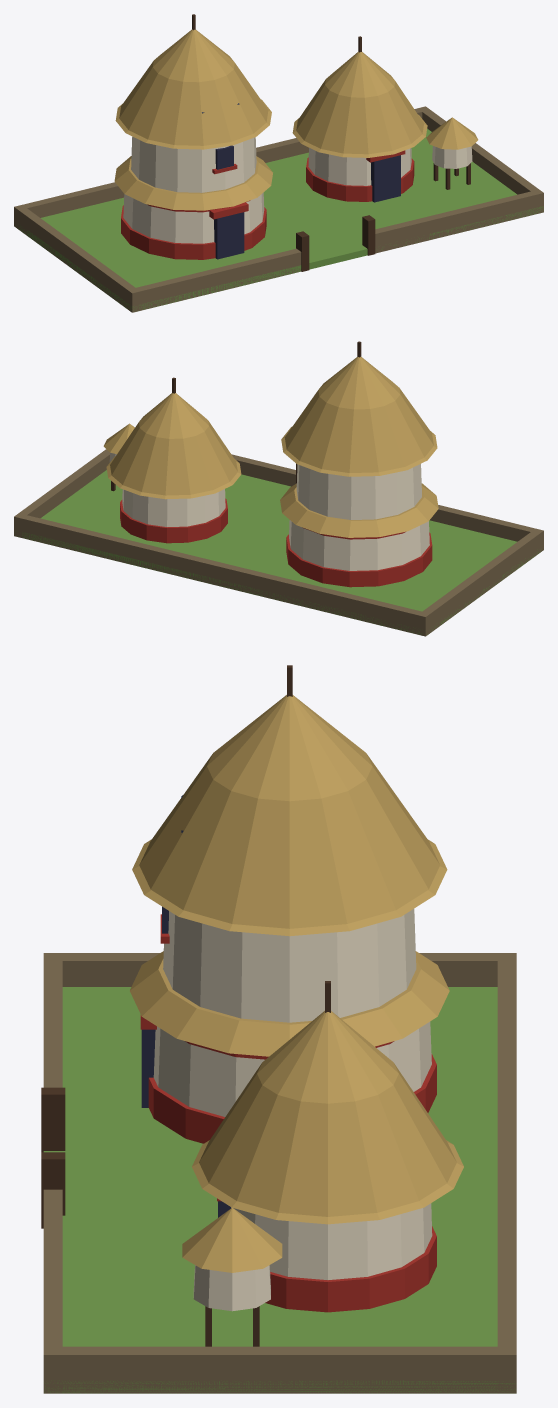
File: house-2x1-2f-rondavel-a-solar.glb
The picture shows the model from 3 angles, top to bottom: view 1: azimuth 30°, elevation 25°; view 2: azimuth 150°, elevation 25°; view 3: azimuth 270°, elevation 25°; orthographic projection. The views are drawn at different scales.
Visible parts, largest first — view 1: house-2x1-2f-rondavel-a-solar; view 2: house-2x1-2f-rondavel-a-solar; view 3: house-2x1-2f-rondavel-a-solar.
Part boxes in pixels (x1,y1,x2,y2): house-2x1-2f-rondavel-a-solar: (14, 14, 543, 312); house-2x1-2f-rondavel-a-solar: (14, 341, 543, 636); house-2x1-2f-rondavel-a-solar: (41, 665, 516, 1393).
Size of the model in its own units: 1.99 by 1.03 by 0.995.
1 material, 1 textured.
